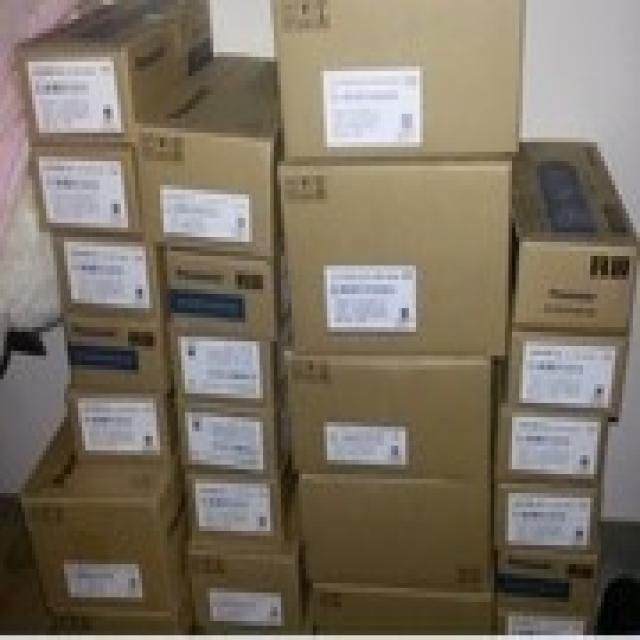box: (278, 151, 511, 352), (20, 412, 196, 630), (271, 1, 526, 151), (136, 52, 285, 262), (281, 335, 494, 480), (22, 0, 213, 143), (506, 143, 636, 332), (298, 480, 492, 589), (186, 487, 304, 635), (162, 244, 288, 344), (504, 329, 628, 419), (28, 143, 142, 233), (181, 446, 294, 534), (305, 578, 495, 630), (175, 387, 289, 473), (50, 233, 161, 321), (496, 401, 610, 484), (67, 310, 168, 397), (494, 551, 595, 635), (165, 334, 281, 406), (495, 479, 601, 553), (68, 386, 177, 457)
